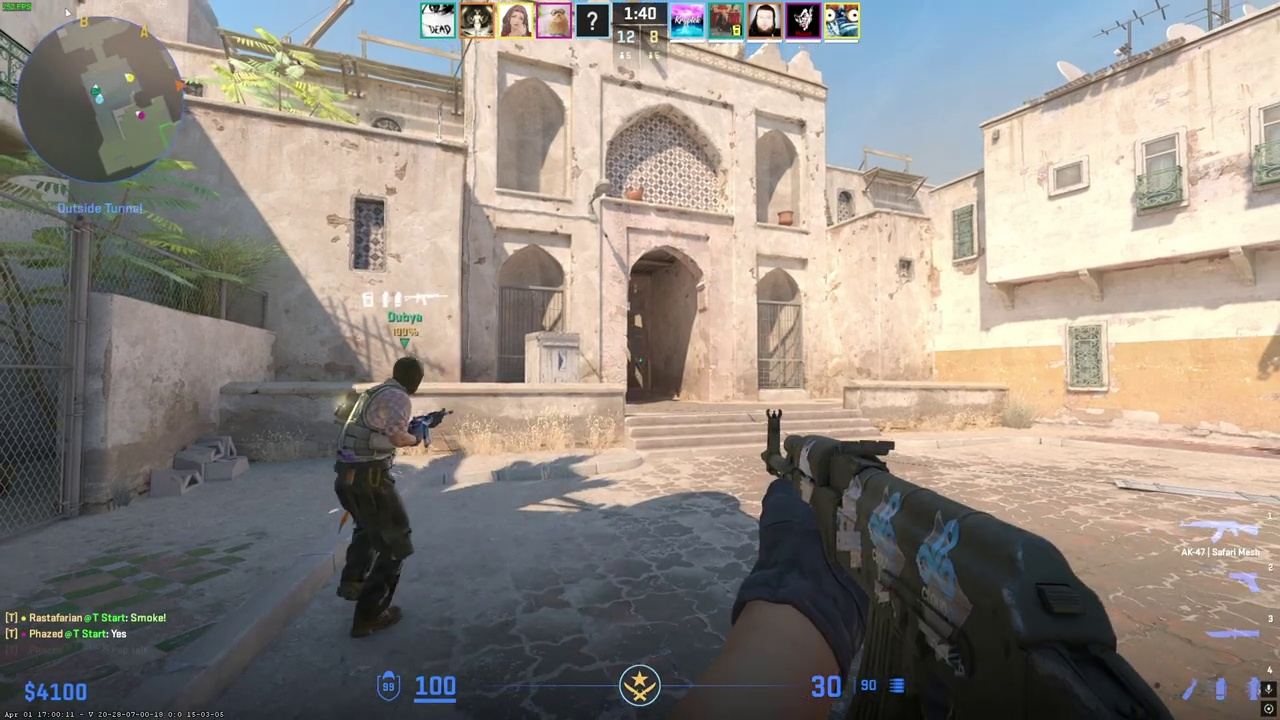Terrorist: (330, 355, 428, 639)
